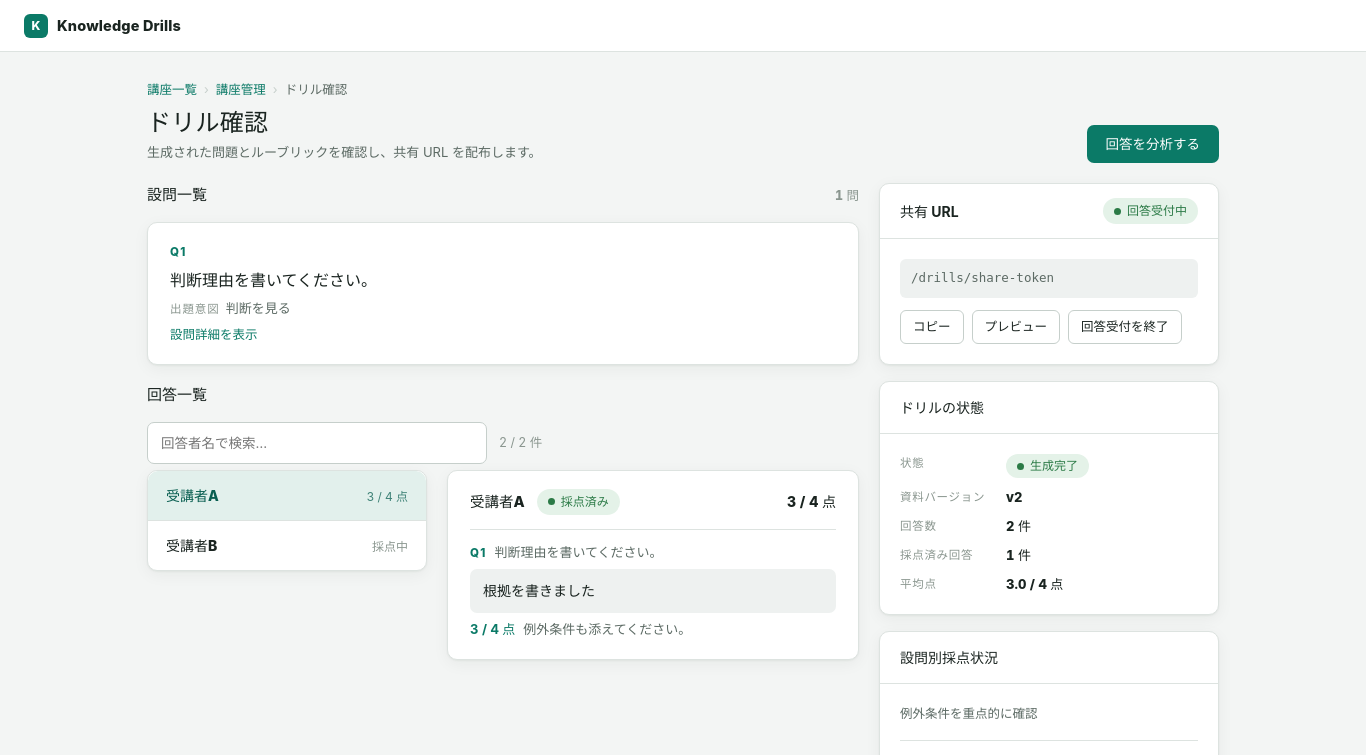
Test: DrillAdminPage › maps agent invocation failure to a retryable Japanese message
Expected: the text "/drills/share-token" is shown, [900,259,1198,298]
Click the button "回答を分析する": (1153, 144) [1086,125,1219,163]
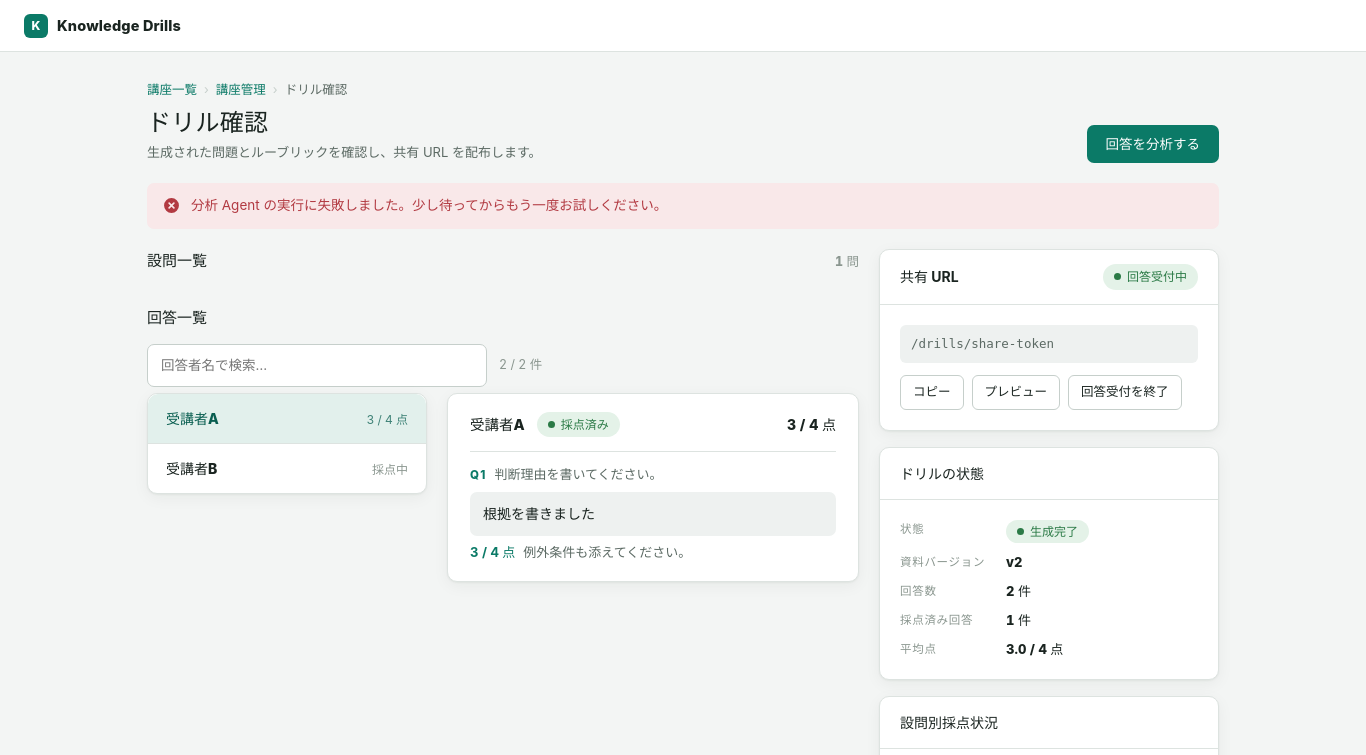
Expected: the text "分析 Agent の実行に失敗しました。少し待ってからもう一度お試しください。" is shown, [191,195,667,217]
